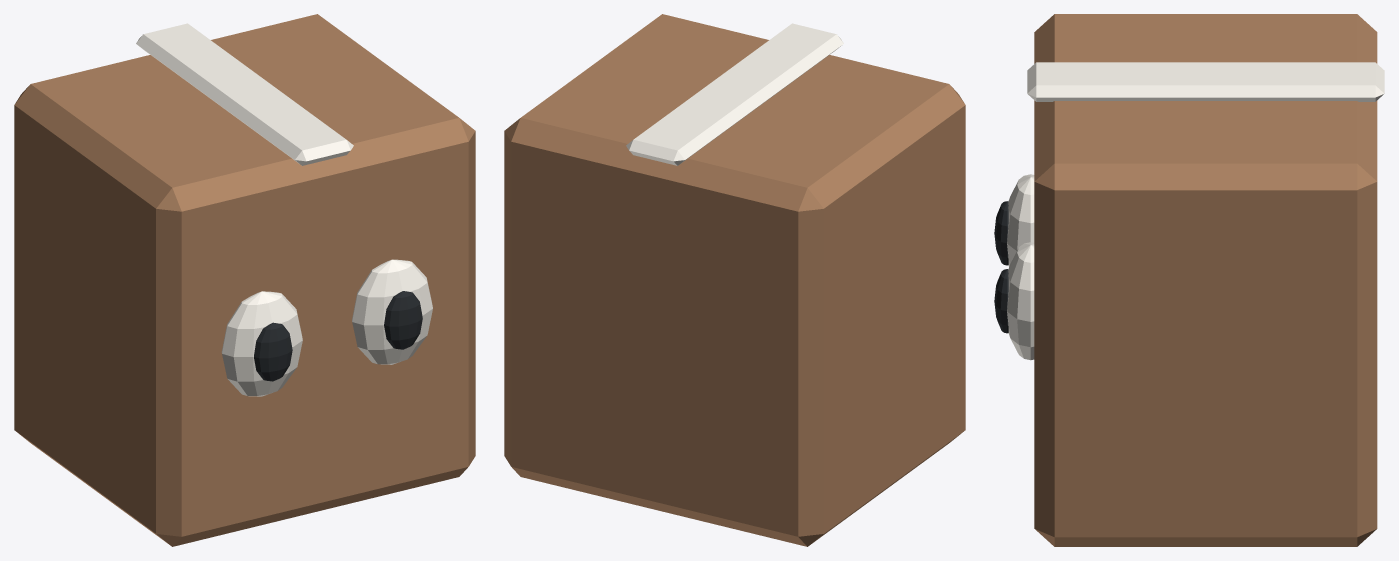
The picture shows the model from 3 angles, left to right: view 1: azimuth 30°, elevation 25°; view 2: azimuth 150°, elevation 25°; view 3: azimuth 270°, elevation 25°; orthographic projection. The views are drawn at different scales.
Visible parts, largest first — view 1: carton.001, eye.012, pupil.012; view 2: carton.001, eye.012; view 3: carton.001, eye.012, pupil.012.
Part boxes in pixels (x1,y1,x2,y2): carton.001: (14, 14, 475, 546); eye.012: (136, 23, 432, 396); pupil.012: (254, 291, 422, 381); carton.001: (504, 14, 965, 546); eye.012: (626, 23, 843, 165); carton.001: (1034, 14, 1377, 546); eye.012: (1007, 62, 1384, 360); pupil.012: (994, 201, 1008, 333).
Bounding box in the file's own units: 1.08 × 1.2 × 1.07.
